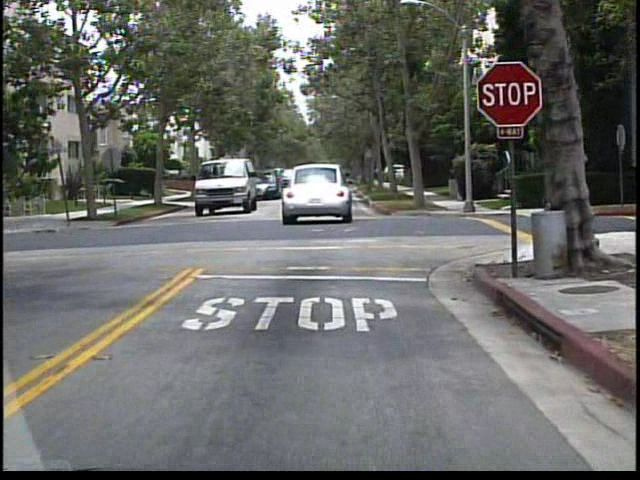car: (277, 160, 350, 225), (189, 158, 258, 221)
stop: (472, 57, 544, 127)
